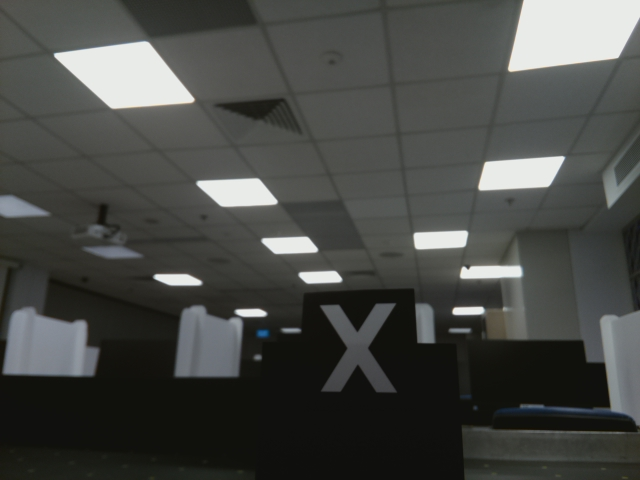x: (305, 294, 401, 397)
